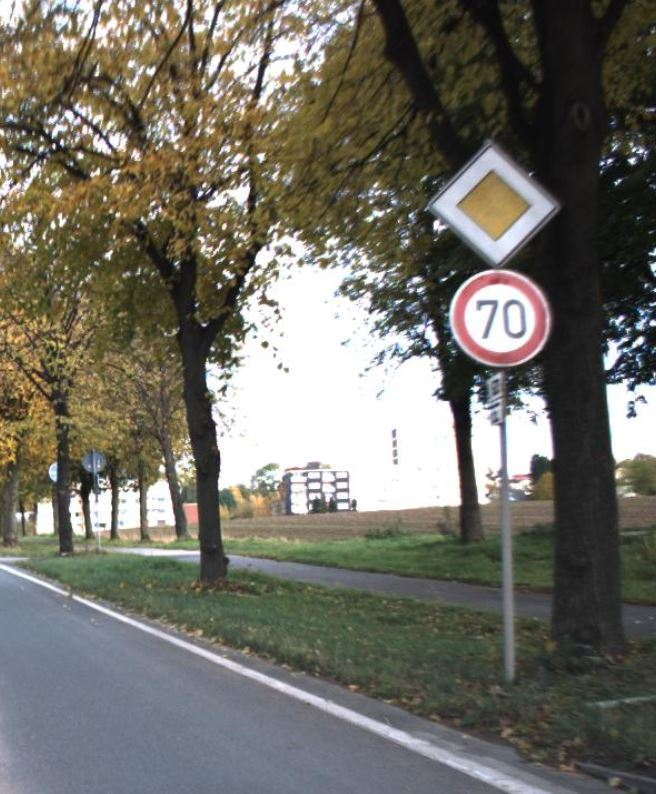70 Km Hiz Siniri: (444, 265, 555, 366)
